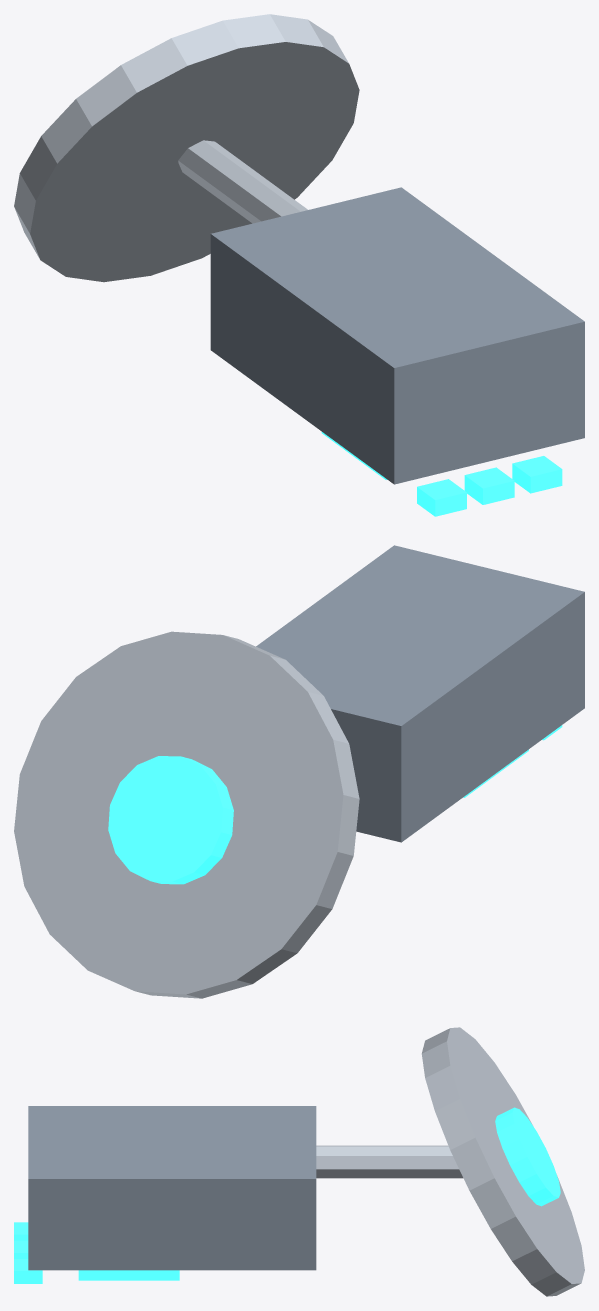
Rendered from tool_scanner.glb.
The picture shows the model from 3 angles, top to bottom: view 1: azimuth 30°, elevation 25°; view 2: azimuth 150°, elevation 25°; view 3: azimuth 270°, elevation 25°; orthographic projection. The views are drawn at different scales.
Visible parts, largest first — view 1: Body, Dish, Mast, Key_2, Key_1, Key_0; view 2: Dish, Body, DishCore; view 3: Body, Dish, Mast, DishCore, Screen, Key_2.
Part boxes in pixels (left/top/right/bottom): Body: left=210, top=187, right=584, bottom=484; Dish: left=14, top=14, right=359, bottom=282; Mast: left=178, top=140, right=307, bottom=223; Key_2: left=512, top=456, right=562, bottom=493; Key_1: left=464, top=467, right=514, bottom=504; Key_0: left=417, top=479, right=466, bottom=516; Dish: left=14, top=631, right=359, bottom=998; Body: left=256, top=545, right=584, bottom=842; DishCore: left=108, top=756, right=233, bottom=884; Body: left=28, top=1106, right=316, bottom=1270; Dish: left=421, top=1027, right=584, bottom=1296; Mast: left=316, top=1145, right=462, bottom=1178; DishCore: left=495, top=1107, right=560, bottom=1206; Screen: left=78, top=1270, right=179, bottom=1280; Key_2: left=14, top=1259, right=42, bottom=1283.
Bounding box in the file's own units: 0.2 × 0.1851 × 0.3967.
